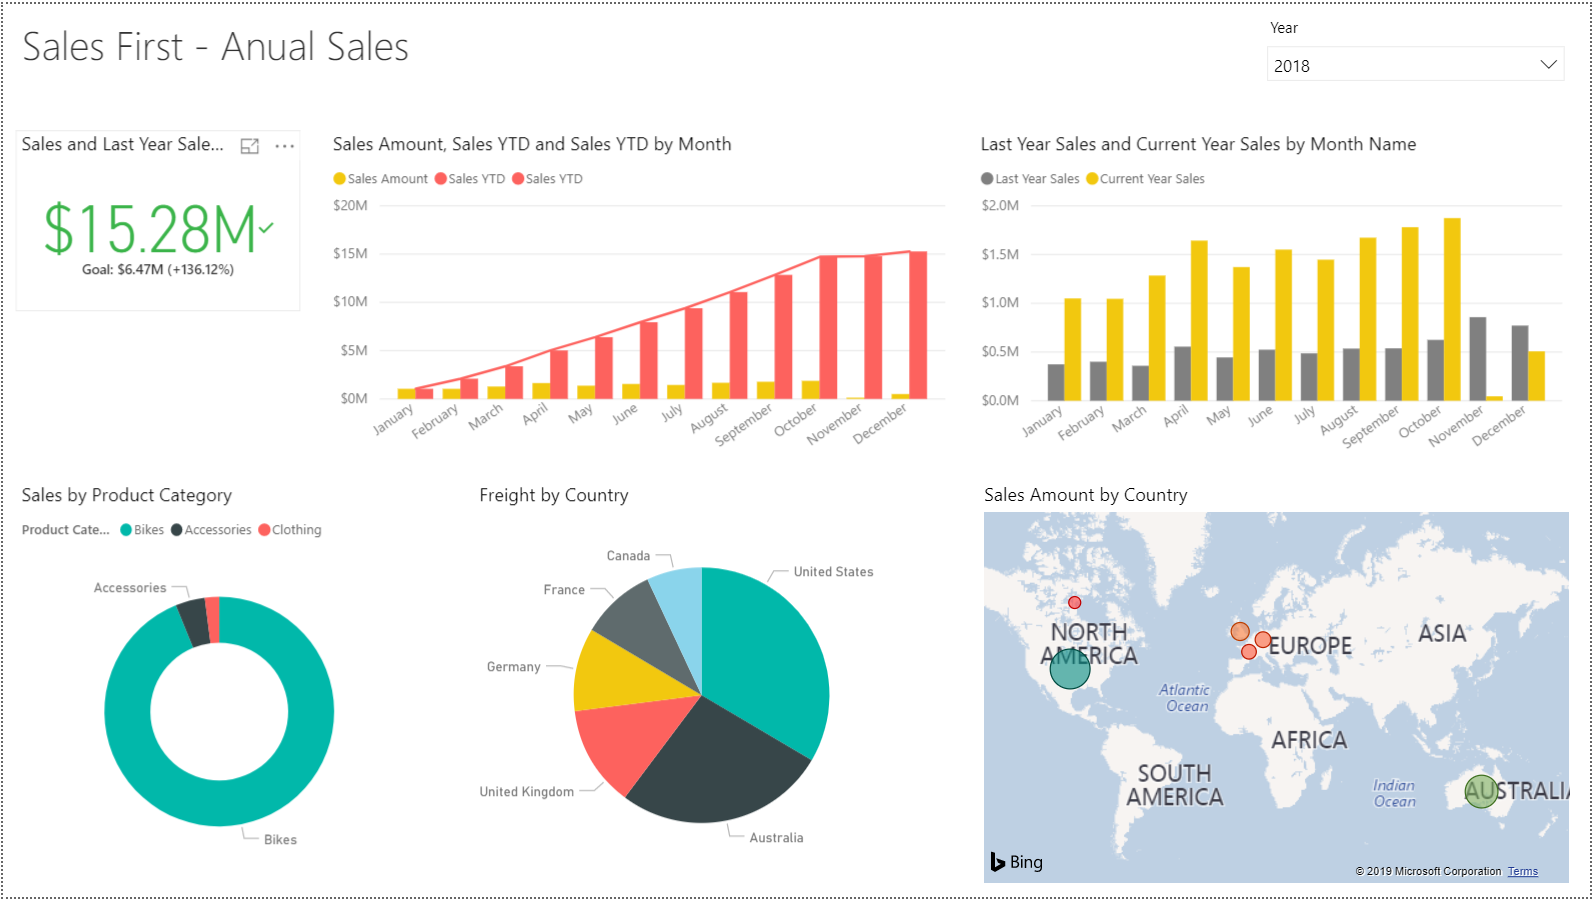

Layout of this report page (visuals, bound fields, positions):
{"tool":"powerbi","page":{"name":"Sales by Year","canvas":[1280,720],"ordinal":0},"visuals":[{"type":"map","fields":{"Size":["Sum(Sales.SalesAmount)"],"Category":["SalesTerritory.Country"]},"box":[787,384.8,481.9,329.1],"z":8},{"type":"pieChart","fields":{"Category":["SalesTerritory.Country"],"Y":["Sum(Sales.Freight)"]},"box":[379.1,384.8,368.7,325],"z":9},{"type":"kpi","title":"Sales and Last Year Sales by Year","fields":{"Indicator":["Sum(Sales.SalesAmount)"],"Goal":["Sales.LastYearSales"],"TrendLine":["Date.Year"]},"box":[10.4,101.7,230,146.8],"z":10},{"type":"lineClusteredColumnComboChart","fields":{"Category":["Date.MonthName"],"Y":["Sum(Sales.SalesAmount)","Sales.Sales_YTD"],"Y2":["Sales.Sales_YTD"]},"box":[261.2,101.7,503.9,267],"z":1000},{"type":"slicer","fields":{"Values":["Date.Year"]},"box":[1009.2,6.5,260,84.4],"z":2000},{"type":"donutChart","fields":{"Category":["ProductCategory.EnglishProductCategoryName","ProductSubcategory.EnglishProductSubcategoryName","Product.EnglishProductName"],"Y":["Sum(Sales.SalesAmount)"]},"box":[10.4,384.8,329.4,324.1],"z":3000},{"type":"clusteredColumnChart","fields":{"Y":["Sales.LastYearSameMonthSales","Sum(Sales.SalesAmount)"],"Category":["Date.MonthName"]},"box":[783.7,101.7,479.7,268],"z":4000},{"type":"textbox","box":[10.4,6.5,331.7,52],"z":7000}]}

Visuals, with their boxes in screenshot pixels (x1, y1, x2, y2), scaled from the page's 1280x720 canvas onto the 1594x901 screenshot:
map - Sum(Sales.SalesAmount) x SalesTerritory.Country: 980:482:1580:893
pieChart - SalesTerritory.Country x Sum(Sales.Freight): 472:482:931:888
"Sales and Last Year Sales by Year" kpi: 13:127:299:311
lineClusteredColumnComboChart - Date.MonthName x Sum(Sales.SalesAmount): 325:127:953:461
slicer - Date.Year: 1257:8:1581:114
donutChart - ProductCategory.EnglishProductCategoryName x ProductSubcategory.EnglishProductSubcategoryName: 13:482:423:887
clusteredColumnChart - Sales.LastYearSameMonthSales x Sum(Sales.SalesAmount): 976:127:1573:463
textbox: 13:8:426:73
